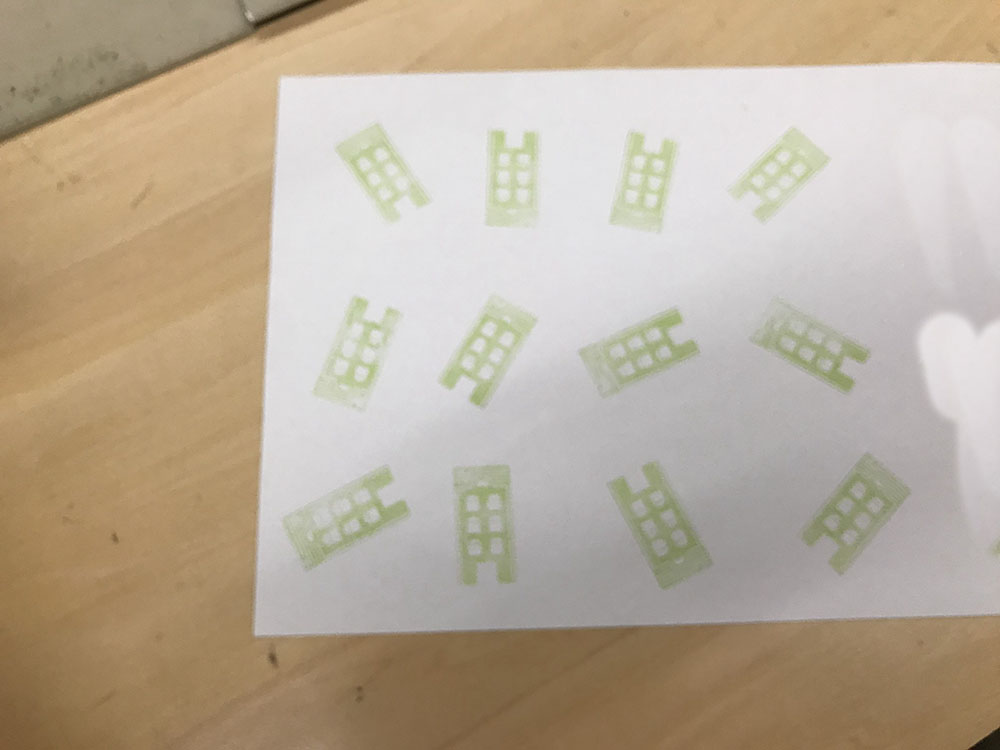build: (583, 444, 744, 612), (783, 444, 918, 592), (316, 104, 448, 244), (276, 451, 416, 580), (742, 281, 875, 416), (429, 277, 548, 419), (574, 294, 709, 412), (435, 458, 548, 593), (300, 290, 408, 430), (714, 113, 837, 234), (588, 118, 694, 253), (469, 114, 553, 249)
